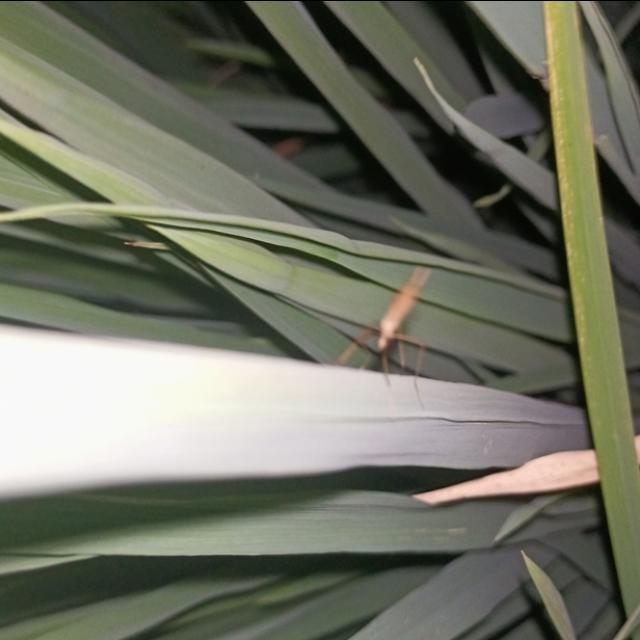green leaf hopper: (334, 264, 444, 414)
